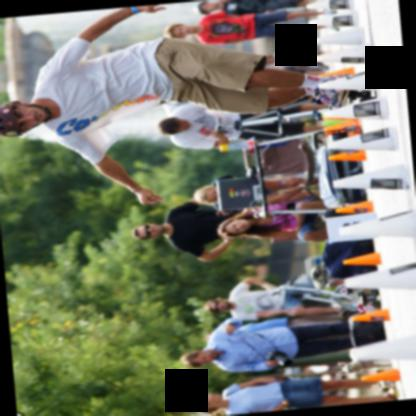backpack: (323, 239, 377, 278)
handbag: (222, 377, 269, 397)
suitcase: (314, 143, 362, 210), (349, 311, 385, 346)
